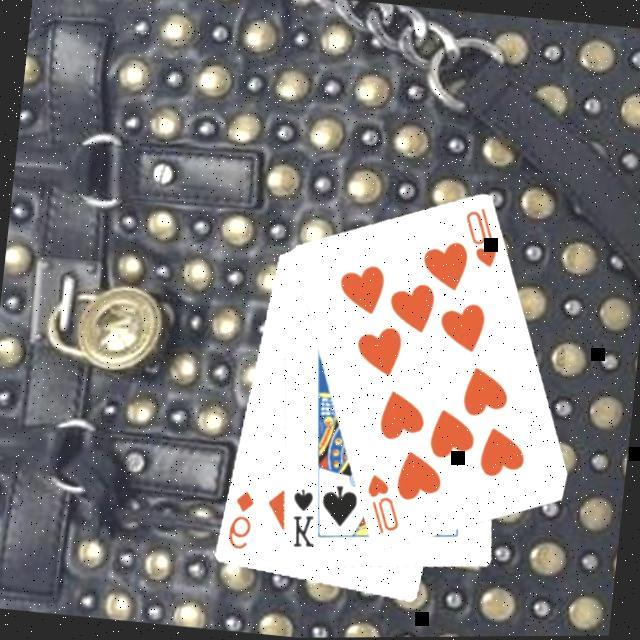10H: (357, 469, 406, 538), (455, 201, 503, 270)
6D: (221, 484, 256, 552)
KS: (283, 482, 321, 551)
